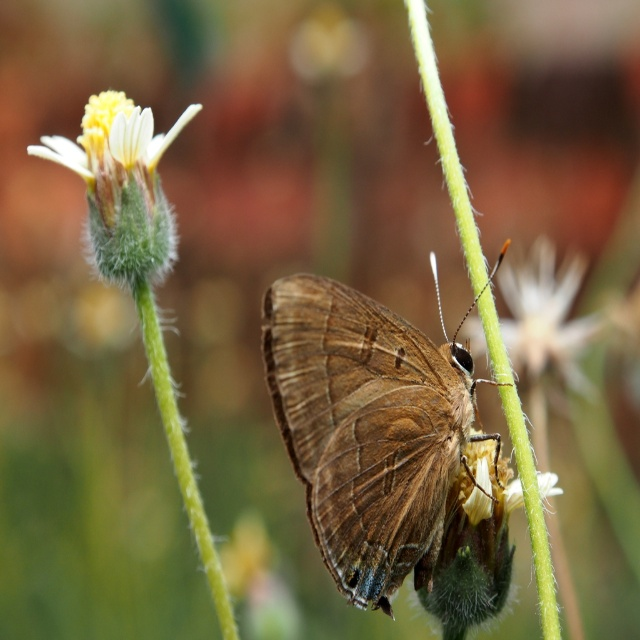Butterfly: (263, 235, 514, 639)
